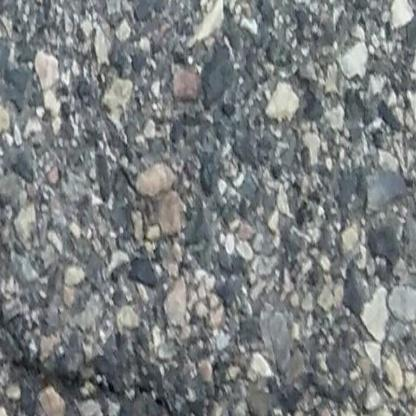Cracks: (0, 289, 266, 416)
